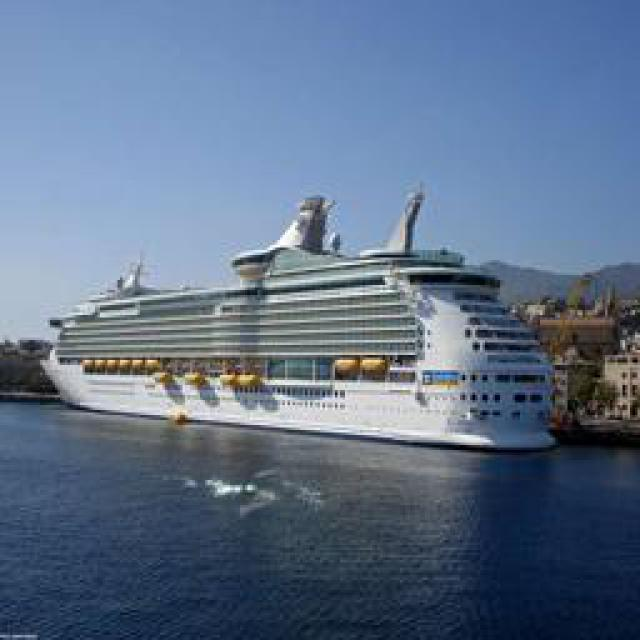Ship: (45, 187, 558, 450)
